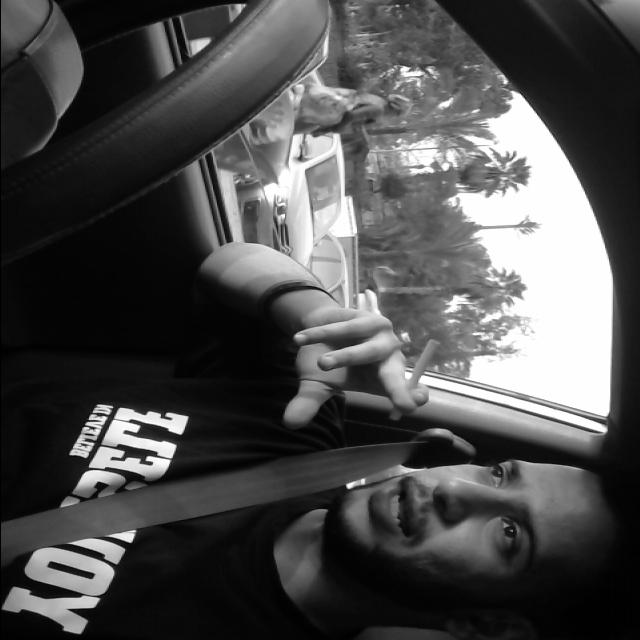smoking: (392, 338, 440, 417)
